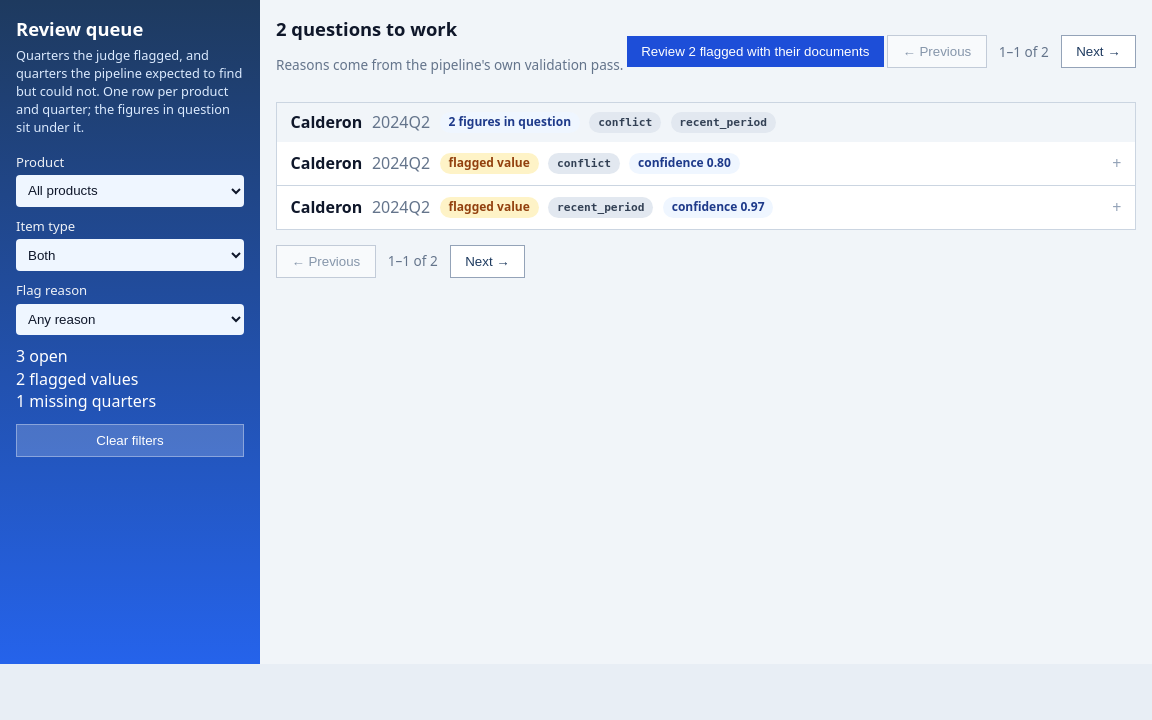
ReviewQueuePage › says a contested quarter once, with its figures beneath, and pages by question
Check: the heading "2 questions to work" is shown, box [276, 16, 457, 41]
Check: the 1st text "Calderon" is shown, box [291, 111, 362, 134]
# The reason's meaning comes from the response, not from the page.
Click the text "conflict" in the row of "0.80": (584, 163) [548, 153, 620, 174]
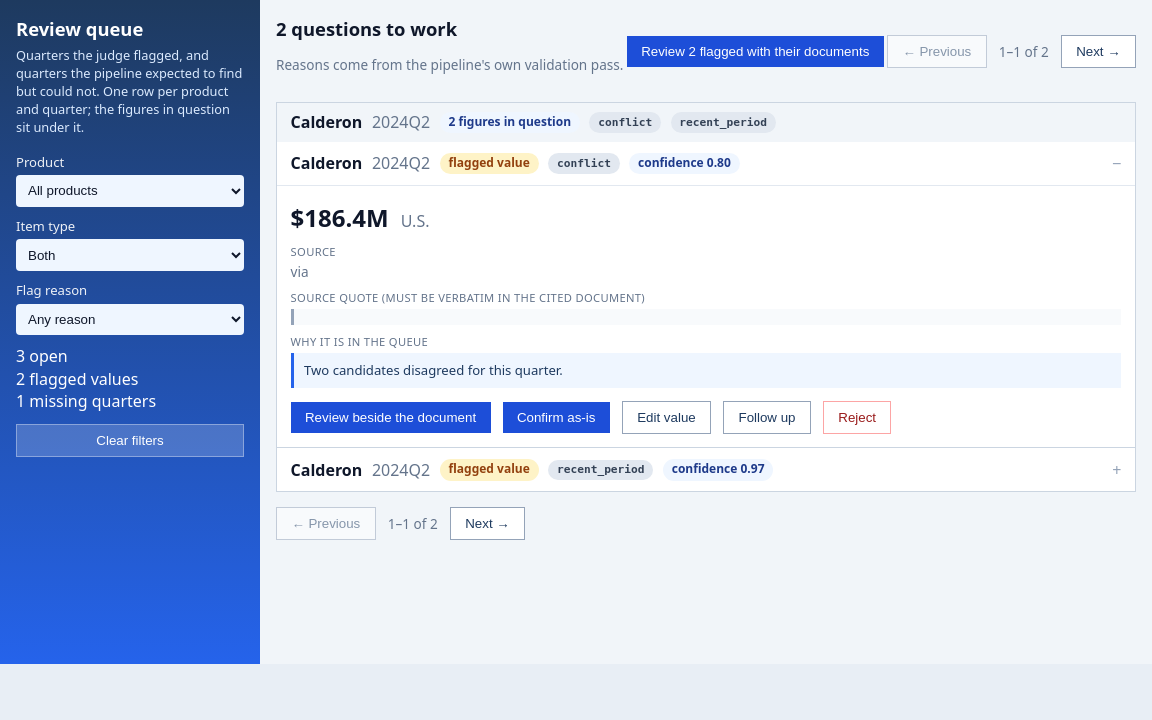
Check: the text "Two candidates disagreed for this quarter." is shown, box [291, 353, 1121, 388]
Click the button "Next →" in the row of "questions to work": (1098, 52) [1061, 36, 1136, 68]
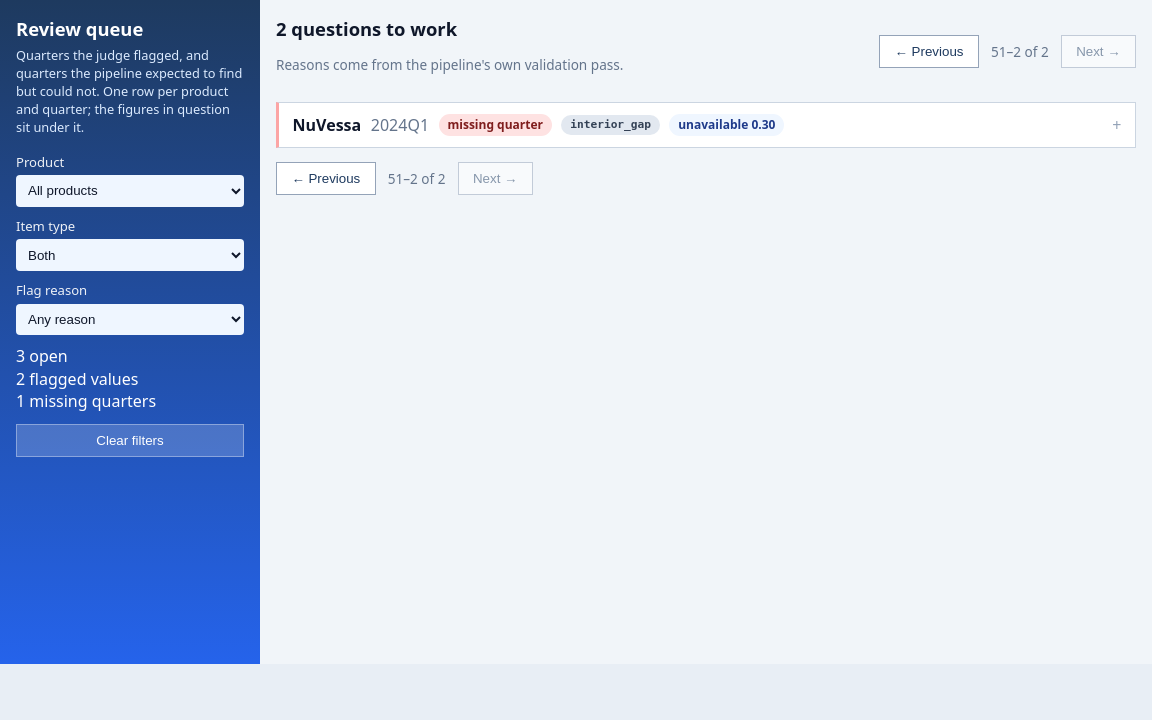
Check: the text "missing quarter" is shown, box [439, 114, 552, 136]
Check: the text "2 figures in question" is gone
